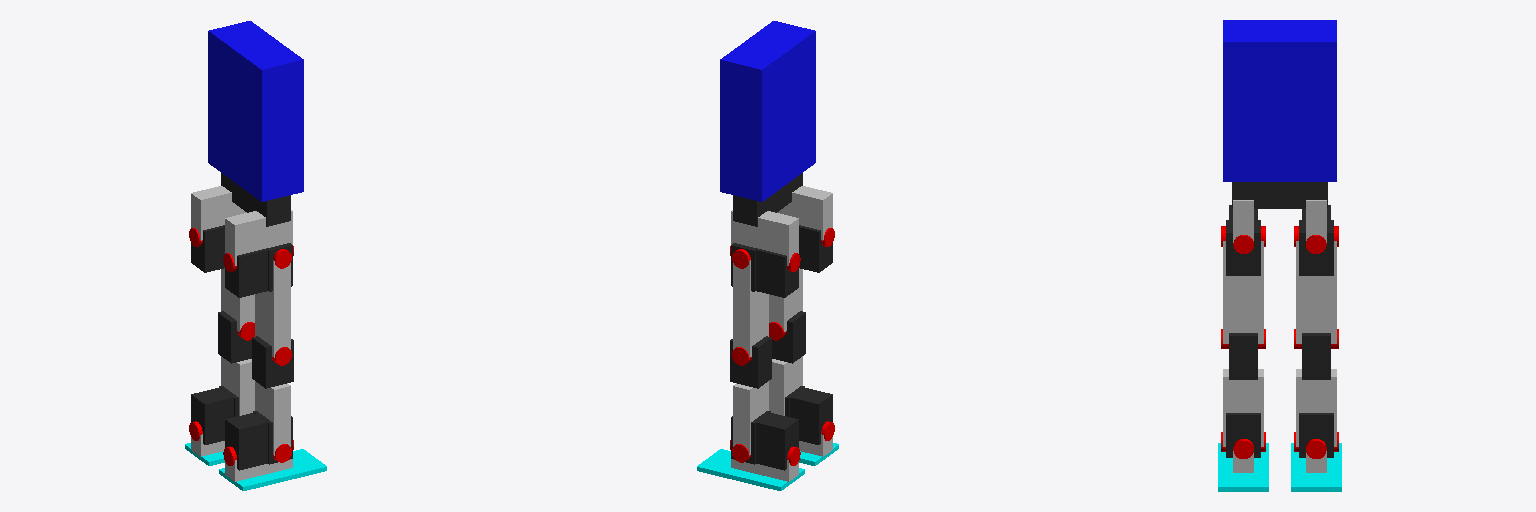
--- What the picture shows (computed from the rendered views, not written in the file) ---
The picture shows the robot from 3 angles, left to right: view 1: azimuth 30°, elevation 25°; view 2: azimuth 150°, elevation 25°; view 3: azimuth 270°, elevation 25°; orthographic projection.
Model humanoid with 34 links and 33 joints (12 revolute, 21 fixed), rooted at body, posed all joints at 0.
Links seen in each view (by area): view 1: body, legUpR, hipBridgeR, ankleMotorRB, ankleMotorLB, hipBridgeL, legDownR, hipMotorRB, kneeMotorR, footR, waist, legDownL (+4 smaller); view 2: body, legUpL, hipBridgeL, ankleMotorLB, ankleMotorRB, hipBridgeR, legDownL, hipMotorLB, kneeMotorL, footL, waist, legDownR (+4 smaller); view 3: body, legUpR, legUpL, waist, legDownR, legDownL, footR, footL, kneeMotorR, kneeMotorL, hipMotorRF, hipMotorLF (+4 smaller).
Link boxes in pixels (x1,y1,x2,y2): body: (208,21,303,201); legUpR: (255,260,290,357); hipBridgeR: (225,210,292,265); ankleMotorRB: (225,413,267,470); ankleMotorLB: (191,387,233,444); hipBridgeL: (191,186,246,240); legDownR: (255,381,290,455); hipMotorRB: (225,249,267,297); kneeMotorR: (252,336,293,388); footR: (219,449,326,490); waist: (221,173,290,226); legDownL: (221,356,254,415); body: (720,21,815,201); legUpL: (733,260,768,357); hipBridgeL: (731,210,798,265); ankleMotorLB: (756,413,798,470); ankleMotorRB: (790,387,832,444); hipBridgeR: (777,186,832,240); legDownL: (733,381,768,455); hipMotorLB: (756,249,798,297); kneeMotorL: (730,336,771,388); footL: (697,449,804,490); waist: (733,173,802,226); legDownR: (769,356,802,415); body: (1223,20,1336,181); legUpR: (1223,241,1263,343); legUpL: (1296,241,1336,343); waist: (1232,182,1327,208); legDownR: (1223,369,1263,446); legDownL: (1296,369,1336,446); footR: (1218,443,1268,491); footL: (1291,443,1341,491); kneeMotorR: (1229,333,1257,379); kneeMotorL: (1302,333,1330,379); hipMotorRF: (1226,220,1260,275); hipMotorLF: (1299,220,1333,275).
Size in the robot's own frame: 0.1033 by 0.1205 by 0.47 metres.
Geometry: primitives only (box / cylinder / sphere), no mesh files.

The robot description file, URDF, robot "humanoid":
<?xml version="1.0" ?>
<robot name="humanoid">
    <link name="body">
        <visual>
			<geometry>
				<box size="0.050 0.11 0.150"/>
			</geometry>
		    <origin xyz="0 0 0.395" rpy="0 0 0"/>
            <axis xyz="0 0 0" />
			<material name="blue">
	       		<color rgba="0.1 0.1 1 1.0"/>
	     	</material>
		</visual>
        <inertial>
            <mass value="0.8"/>
            <inertia ixx="0.0023066666666666665" ixy="0.0" ixz="0.0" iyy="0.001666666666666667" iyz="0.0" izz="0.0009733333333333334"/>
        </inertial>
        <collision>
			<geometry>
				<box size="0.050 0.11 0.150"/>
			</geometry>
		    <origin xyz="0 0 0.395" rpy="0 0 0"/>
        </collision>
    </link>


    <joint name="fixed_waist" type="fixed">
        <parent link="body"/>
        <child link="waist"/>
    </joint>

    <link name="waist">
        <visual>
			<geometry>
				<box size="0.0285 0.093 0.034"/>
			</geometry>
		    <origin xyz="0 0 0.303" rpy="0 0 0"/>
            <axis xyz="0 0 0" />
			<material name="motorColor">
	       		<color rgba="0.2 0.2 0.2 1.0"/>
	     	</material>
		</visual>
        <inertial>
            <mass value="0.116"/>
            <inertia ixx="9.478166666666668e-05" ixy="0.0" ixz="0.0" iyy="1.902641666666667e-05" iyz="0.0" izz="9.145875000000002e-05"/>
        </inertial>
        <collision>
			<geometry>
				<box size="0.0285 0.093 0.034"/>
			</geometry>
		    <origin xyz="0 0 0.303" rpy="0 0 0"/>
        </collision>
    </link>

    <!-- Right leg -->
    
    <joint name="jointHipRZ" type="revolute">
        <parent link="waist"/>
        <child link="hipCylinderRZ"/>
        <origin xyz="0 -0.03525 0.25" rpy="0 0 0"/>
        <axis xyz="0 0 1"/>
    	<limit effort="10" lower="-3" upper="+3" velocity="10"/>
        <dynamics damping="0"/>
    </joint>

    <link name="hipCylinderRZ">
        <visual>
			<geometry>
				<cylinder length="0.04" radius="0.01"/>
			</geometry>
		    <origin xyz="0 0 0.02" rpy="0 0 0"/>
            <axis xyz="0 0 0" />
			<material name="red">
	       		<color rgba="1 0.0 0.0 1.0"/>
	     	</material>
		</visual>
        <inertial>
            <mass value="0"/>
            <inertia ixx="0" ixy="0" ixz="0.0" iyy="0" iyz="0.0" izz="0"/>
        </inertial>
    </link>

    <joint name="jointHipRX" type="revolute">
        <parent link="hipCylinderRZ"/>
        <child link="hipCylinderRX"/>
        <origin xyz="0 0 0" rpy="0 0 0"/>
        <axis xyz="1 0 0"/>
    	<limit effort="10" lower="-3" upper="+3" velocity="10"/>
        <dynamics damping="0"/>
    </joint>

    <link name="hipCylinderRX">
        <visual>
			<geometry>
				<cylinder length="0.0725" radius="0.01"/>
			</geometry>
		    <origin xyz="-0.017 0 0" rpy="0 1.57075 0"/>
            <axis xyz="0 0 0" />
			<material name="red"/>
		</visual>
        <inertial>
            <mass value="0"/>
            <inertia ixx="0" ixy="0" ixz="0.0" iyy="0" iyz="0.0" izz="0"/>
        </inertial>
    </link>

    <joint name="jointHipRY" type="revolute">
        <parent link="hipCylinderRX"/>
        <child link="hipCylinderRY"/>
        <origin xyz="0 0 0" rpy="0 0 0"/>
        <axis xyz="0 1 0"/>
    	<limit effort="10" lower="-3" upper="+3" velocity="10"/>
        <dynamics damping="0"/>
    </joint>

    <link name="hipCylinderRY">
        <visual>
			<geometry>
				<cylinder length="0.044" radius="0.01"/>
			</geometry>
		    <origin xyz="0 0 0" rpy="1.57075 0 0"/>
            <axis xyz="0 0 0" />
			<material name="red"/>
		</visual>
        <inertial>
            <mass value="0"/>
            <inertia ixx="0" ixy="0" ixz="0.0" iyy="0" iyz="0.0" izz="0"/>
        </inertial>
    </link>

    <joint name="jointKneeRY" type="revolute">
        <parent link="hipCylinderRY"/>
        <child link="kneeCylinderRY"/>
        <origin xyz="0 0 -0.11" rpy="0 0 0"/>
        <axis xyz="0 1 0"/>
    	<limit effort="10" lower="-3" upper="+3" velocity="10"/>
        <dynamics damping="0"/>
    </joint>

    <link name="kneeCylinderRY">
        <visual>
			<geometry>
				<cylinder length="0.044" radius="0.01"/>
			</geometry>
		    <origin xyz="0 0 0" rpy="1.57075 0 0"/>
            <axis xyz="0 0 0" />
			<material name="red"/>
		</visual>
        <inertial>
            <mass value="0"/>
            <inertia ixx="0" ixy="0" ixz="0.0" iyy="0" iyz="0.0" izz="0"/>
        </inertial>
    </link>

    <joint name="jointankleRY" type="revolute">
        <parent link="kneeCylinderRY"/>
        <child link="ankleCylinderRY"/>
        <origin xyz="0 0 -0.11" rpy="0 0 0"/>
        <axis xyz="0 1 0"/>
    	<limit effort="10" lower="-3" upper="+3" velocity="10"/>
        <dynamics damping="0"/>
    </joint>

    <link name="ankleCylinderRY">
        <visual>
			<geometry>
				<cylinder length="0.044" radius="0.01"/>
			</geometry>
		    <origin xyz="0 0 0" rpy="1.57075 0 0"/>
            <axis xyz="0 0 0" />
			<material name="red"/>
		</visual>
        <inertial>
            <mass value="0"/>
            <inertia ixx="0" ixy="0" ixz="0.0" iyy="0" iyz="0.0" izz="0"/>
        </inertial>
    </link>

    <joint name="jointankleRX" type="revolute">
        <parent link="ankleCylinderRY"/>
        <child link="ankleCylinderRX"/>
        <origin xyz="0 0 0" rpy="0 0 0"/>
        <axis xyz="1 0 0"/>
    	<limit effort="10" lower="-3" upper="+3" velocity="10"/>
        <dynamics damping="0"/>
    </joint>

    <link name="ankleCylinderRX">
        <visual>
			<geometry>
				<cylinder length="0.0725" radius="0.01"/>
			</geometry>
		    <origin xyz="-0.017 0 0" rpy="0 1.57075 0"/>
            <axis xyz="0 0 0" />
			<material name="red"/>
		</visual>
        <inertial>
            <mass value="0"/>
            <inertia ixx="0" ixy="0" ixz="0.0" iyy="0" iyz="0.0" izz="0"/>
        </inertial>
    </link>
     	
    <!-- Left leg -->
    
    <joint name="jointHipLZ" type="revolute">
        <parent link="waist"/>
        <child link="hipCylinderLZ"/>
        <origin xyz="0 0.03525 0.25" rpy="0 0 0"/>
        <axis xyz="0 0 1"/>
    	<limit effort="10" lower="-3" upper="+3" velocity="10"/>
        <dynamics damping="0"/>
    </joint>

    <link name="hipCylinderLZ">
        <visual>
			<geometry>
				<cylinder length="0.04" radius="0.01"/>
			</geometry>
		    <origin xyz="0 0 0.02" rpy="0 0 0"/>
            <axis xyz="0 0 0" />
			<material name="red">
	       		<color rgba="1 0.0 0.0 1.0"/>
	     	</material>
		</visual>
        <inertial>
            <mass value="0"/>
            <inertia ixx="0" ixy="0" ixz="0.0" iyy="0" iyz="0.0" izz="0"/>
        </inertial>
    </link>

    <joint name="jointHipLX" type="revolute">
        <parent link="hipCylinderLZ"/>
        <child link="hipCylinderLX"/>
        <origin xyz="0 0 0" rpy="0 0 0"/>
        <axis xyz="1 0 0"/>
    	<limit effort="10" lower="-3" upper="+3" velocity="10"/>
        <dynamics damping="0"/>
    </joint>

    <link name="hipCylinderLX">
        <visual>
			<geometry>
				<cylinder length="0.0725" radius="0.01"/>
			</geometry>
		    <origin xyz="-0.017 0 0" rpy="0 1.57075 0"/>
            <axis xyz="0 0 0" />
			<material name="red"/>
		</visual>
        <inertial>
            <mass value="0"/>
            <inertia ixx="0" ixy="0" ixz="0.0" iyy="0" iyz="0.0" izz="0"/>
        </inertial>
    </link>

    <joint name="jointHipLY" type="revolute">
        <parent link="hipCylinderLX"/>
        <child link="hipCylinderLY"/>
        <origin xyz="0 0 0" rpy="0 0 0"/>
        <axis xyz="0 1 0"/>
    	<limit effort="10" lower="-3" upper="+3" velocity="10"/>
        <dynamics damping="0"/>
    </joint>

    <link name="hipCylinderLY">
        <visual>
			<geometry>
				<cylinder length="0.044" radius="0.01"/>
			</geometry>
		    <origin xyz="0 0 0" rpy="1.57075 0 0"/>
            <axis xyz="0 0 0" />
			<material name="red"/>
		</visual>
        <inertial>
            <mass value="0"/>
            <inertia ixx="0" ixy="0" ixz="0.0" iyy="0" iyz="0.0" izz="0"/>
        </inertial>
    </link>

    <joint name="jointKneeLY" type="revolute">
        <parent link="hipCylinderLY"/>
        <child link="kneeCylinderLY"/>
        <origin xyz="0 0 -0.11" rpy="0 0 0"/>
        <axis xyz="0 1 0"/>
    	<limit effort="10" lower="-3" upper="+3" velocity="10"/>
        <dynamics damping="0"/>
    </joint>

    <link name="kneeCylinderLY">
        <visual>
			<geometry>
				<cylinder length="0.044" radius="0.01"/>
			</geometry>
		    <origin xyz="0 0 0" rpy="1.57075 0 0"/>
            <axis xyz="0 0 0" />
			<material name="red"/>
		</visual>
        <inertial>
            <mass value="0"/>
            <inertia ixx="0" ixy="0" ixz="0.0" iyy="0" iyz="0.0" izz="0"/>
        </inertial>
    </link>

    <joint name="jointankleLY" type="revolute">
        <parent link="kneeCylinderLY"/>
        <child link="ankleCylinderLY"/>
        <origin xyz="0 0 -0.11" rpy="0 0 0"/>
        <axis xyz="0 1 0"/>
    	<limit effort="10" lower="-3" upper="+3" velocity="10"/>
        <dynamics damping="0"/>
    </joint>

    <link name="ankleCylinderLY">
        <visual>
			<geometry>
				<cylinder length="0.044" radius="0.01"/>
			</geometry>
		    <origin xyz="0 0 0" rpy="1.57075 0 0"/>
            <axis xyz="0 0 0" />
			<material name="red"/>
		</visual>
        <inertial>
            <mass value="0"/>
            <inertia ixx="0" ixy="0" ixz="0.0" iyy="0" iyz="0.0" izz="0"/>
        </inertial>
    </link>

    <joint name="jointankleLX" type="revolute">
        <parent link="ankleCylinderLY"/>
        <child link="ankleCylinderLX"/>
        <origin xyz="0 0 0" rpy="0 0 0"/>
        <axis xyz="1 0 0"/>
    	<limit effort="10" lower="-3" upper="+3" velocity="10"/>
        <dynamics damping="0"/>
    </joint>

    <link name="ankleCylinderLX">
        <visual>
			<geometry>
				<cylinder length="0.0725" radius="0.01"/>
			</geometry>
		    <origin xyz="-0.017 0 0" rpy="0 1.57075 0"/>
            <axis xyz="0 0 0" />
			<material name="red"/>
		</visual>
        <inertial>
            <mass value="0"/>
            <inertia ixx="0" ixy="0" ixz="0.0" iyy="0" iyz="0.0" izz="0"/>
        </inertial>
    </link>




    <!-- Decorations R -->
    
    
    <joint name="fixed_hipBridgeR" type="fixed">
        <parent link="hipCylinderRZ"/>
        <child link="hipBridgeR"/>
    </joint>
    
    <link name="hipBridgeR">
      <visual>
			<geometry>
				<box size="0.0685 0.02 0.046"/>
			</geometry>
		    <origin xyz="-0.017 0 0.023" rpy="0 0 0"/>
			<material name="linkColor">
	       		<color rgba="0.8 0.8 0.8 1.0"/>
	     	</material>
		</visual>
        <inertial>
            <mass value="0.03"/>
            <inertia ixx="6.29e-06" ixy="0.0" ixz="0.0" iyy="1.7020625000000003e-05" iyz="0.0" izz="1.2730625000000003e-05"/>
        </inertial>
        <collision>
			<geometry>
				<box size="0.0685 0.02 0.046"/>
			</geometry>
		    <origin xyz="-0.017 0 0.023" rpy="0 0 0"/>
        </collision>
    </link>
    
    <joint name="fixed_hipMotorRF" type="fixed">
        <parent link="hipCylinderRX"/>
        <child link="hipMotorRF"/>
    </joint>
    
    <link name="hipMotorRF">
        <visual>
			<geometry>
				<box size="0.0285 0.034 0.0465"/>
			</geometry>
		    <origin xyz="0 0 -0.01225" rpy="0 0 0"/>
            <axis xyz="0 0 0" />
			<material name="motorColor">
	       		<color rgba="0.2 0.2 0.2 1.0"/>
	     	</material>
		</visual>
        <inertial>
            <mass value="0.058"/>
            <inertia ixx="1.6038208333333333e-05" ixy="0.0" ixz="0.0" iyy="1.4376750000000003e-05" iyz="0.0" izz="9.513208333333336e-06"/>
        </inertial>
        <collision>
			<geometry>
				<box size="0.0285 0.034 0.0465"/>
			</geometry>
		    <origin xyz="0 0 -0.01225" rpy="0 0 0"/>
        </collision>
    </link>
    
    <joint name="fixed_hipMotorRB" type="fixed">
        <parent link="hipCylinderRX"/>
        <child link="hipMotorRB"/>
    </joint>

    <link name="hipMotorRB">
        <visual>
			<geometry>
				<box size="0.034 0.0285 0.0465"/>
			</geometry>
		    <origin xyz="-0.0315 0 -0.01225" rpy="0 0 0"/>
            <axis xyz="0 0 0" />
			<material name="motorColor"/>
		</visual>
        <inertial>
            <mass value="0.058"/>
            <inertia ixx="1.4376750000000003e-05" ixy="0.0" ixz="0.0" iyy="1.6038208333333333e-05" iyz="0.0" izz="9.513208333333336e-06"/>
        </inertial>
        <collision>
			<geometry>
				<box size="0.034 0.0285 0.0465"/>
			</geometry>
		    <origin xyz="-0.0315 0 -0.01225" rpy="0 0 0"/>
        </collision>
    </link>
    
    <joint name="fixed_legUpR" type="fixed">
        <parent link="hipCylinderRY"/>
        <child link="legUpR"/>
    </joint>
 
    <link name="legUpR">
        <visual>
            <geometry>
                <box size="0.02 0.04 0.11"/>
            </geometry>
            <origin xyz="0 0 -0.055"/>
            <axis xyz="0 0 0" />
            <material name="linkColor"/>
        </visual>
        <inertial>
            <mass value="0.03"/>
            <inertia ixx="3.425e-05" ixy="0.0" ixz="0.0" iyy="3.1249999999999994e-05" iyz="0.0" izz="5e-06"/>
        </inertial>
        <collision>
            <geometry>
                <box size="0.02 0.04 0.11"/>
            </geometry>
            <origin xyz="0 0 -0.055"/>
        </collision>
    </link>
    
    <joint name="fixed_kneeMotorR" type="fixed">
        <parent link="kneeCylinderRY"/>
        <child link="kneeMotorR"/>
    </joint>
    
    <link name="kneeMotorR">
        <visual>
			<geometry>
				<box size="0.034 0.0285 0.0465"/>
			</geometry>
		    <origin xyz="0 0 -0.01225" rpy="0 0 0"/>
            <axis xyz="0 0 0" />
            <material name="motorColor"/>
		</visual>
        <inertial>
            <mass value="0.058"/>
            <inertia ixx="1.4376750000000003e-05" ixy="0.0" ixz="0.0" iyy="1.6038208333333333e-05" iyz="0.0" izz="1.6038208333333333e-05"/>
        </inertial>
        <collision>
			<geometry>
				<box size="0.034 0.0285 0.0465"/>
			</geometry>
		    <origin xyz="0 0 -0.01225" rpy="0 0 0"/>
        </collision>
    </link>

    <joint name="fixed_legDownR" type="fixed">
        <parent link="kneeCylinderRY"/>
        <child link="legDownR"/>
    </joint>
    
    <link name="legDownR">
        <visual>
            <geometry>
                <box size="0.02 0.04 0.07475"/>
            </geometry>
            <origin xyz="0 0 -0.073625"/>
            <axis xyz="0 0 0" />
            <material name="linkColor"/>
        </visual>
        <inertial>
            <mass value="0.03"/>
            <inertia ixx="1.796890625e-05" ixy="0.0" ixz="0.0" iyy="1.4968906249999999e-05" iyz="0.0" izz="5e-06"/>
        </inertial>
        <collision>
            <geometry>
                <box size="0.02 0.04 0.07475"/>
            </geometry>
            <origin xyz="0 0 -0.073625"/>
        </collision>
    </link>

    <joint name="fixed_ankleMotorRF" type="fixed">
        <parent link="ankleCylinderRY"/>
        <child link="ankleMotorRF"/>
    </joint>

    <link name="ankleMotorRF">
        <visual>
			<geometry>
				<box size="0.0285 0.034 0.0465"/>
			</geometry>
		    <origin xyz="0 0 0.01225" rpy="0 0 0"/>
            <axis xyz="0 0 0" />
            <material name="motorColor"/>
		</visual>
        <inertial>
            <mass value="0.058"/>
            <inertia ixx="1.6038208333333333e-05" ixy="0.0" ixz="0.0" iyy="1.4376750000000003e-05" iyz="0.0" izz="9.513208333333336e-06"/>
        </inertial>
        <collision>
			<geometry>
				<box size="0.0285 0.034 0.0465"/>
			</geometry>
		    <origin xyz="0 0 0.01225" rpy="0 0 0"/>
        </collision>
    </link>

    <joint name="fixed_ankleMotorRB" type="fixed">
        <parent link="ankleCylinderRY"/>
        <child link="ankleMotorRB"/>
    </joint>
    
    <link name="ankleMotorRB">
        <visual>
			<geometry>
				<box size="0.034 0.0285 0.0465"/>
			</geometry>
		    <origin xyz="-0.0315 0 0.01225" rpy="0 0 0"/>
            <axis xyz="0 0 0" />
            <material name="motorColor"/>
		</visual>
        <inertial>
            <mass value="0.058"/>
            <inertia ixx="1.4376750000000003e-05" ixy="0.0" ixz="0.0" iyy="1.6038208333333333e-05" iyz="0.0" izz="9.513208333333336e-06"/>
        </inertial>
        <collision>
			<geometry>
				<box size="0.034 0.0285 0.0465"/>
			</geometry>
		    <origin xyz="-0.0315 0 0.01225" rpy="0 0 0"/>
        </collision>
    </link>

    <joint name="fixed_footBridgeR" type="fixed">
        <parent link="ankleCylinderRX"/>
        <child link="footBridgeR"/>
    </joint>

    <link name = "footBridgeR">
        <visual>
			<geometry>
				<box size="0.0685 0.02 0.025"/>
			</geometry>
		    <origin xyz="-0.017 0 -0.0125" rpy="0 0 0"/>
            <axis xyz="0 0 0" />
            <material name="linkColor"/>
		</visual>
        <inertial>
            <mass value="0.009"/>
            <inertia ixx="8.541666666666668e-07" ixy="0.0" ixz="0.0" iyy="4.431041666666667e-06" iyz="0.0" izz="4.243541666666668e-06"/>
        </inertial>
        <collision>
			<geometry>
				<box size="0.0685 0.02 0.025"/>
			</geometry>
		    <origin xyz="-0.017 0 -0.0125" rpy="0 0 0"/>
        </collision>
    </link>

    <joint name="fixed_footR" type="fixed">
        <parent link="ankleCylinderRX"/>
        <child link="footR"/>
    </joint>

    <link name="footR">
        <visual>
			<geometry>
				<box size="0.10 0.05 0.005"/>
			</geometry>
		    <origin xyz="0.0 -0.0 -0.0275" rpy="0 0 0"/>
            <axis xyz="0 0 0" />
            <material name="footColor">
	       		<color rgba="0 1 1 1.0"/>
            </material>
		</visual>
        <inertial>
            <mass value="0.025"/>
            <inertia ixx="1.026041666666667e-05" ixy="0.0" ixz="0.0" iyy="4.692708333333334e-05" iyz="0.0" izz="5.7083333333333336e-05"/>
        </inertial>
        <!--
        <collision>
			<geometry>
				<box size="0.15 0.04 0.02"/>
			</geometry>
		    <origin xyz="0.02 -0.015 -0.02" rpy="0 0 0"/>
        </collision>
        <collision>
			<geometry>
				<box size="0.12 0.07 0.02"/>
			</geometry>
		    <origin xyz="0.02 -0.015 -0.02" rpy="0 0 0"/>
        </collision>
        -->
        <collision>
			<geometry>
				<box size="0.10 0.05 0.02"/>
			</geometry>
		    <origin xyz="0.00 -0.00 -0.02" rpy="0 0 0"/>
        </collision>
    </link>

    <!-- Decorations L -->
    
    <joint name="fixed_hipBridgeL" type="fixed">
        <parent link="hipCylinderLZ"/>
        <child link="hipBridgeL"/>
    </joint>
    
    <link name="hipBridgeL">
      <visual>
			<geometry>
				<box size="0.0685 0.02 0.046"/>
			</geometry>
		    <origin xyz="-0.017 0 0.023" rpy="0 0 0"/>
			<material name="linkColor">
	       		<color rgba="0.8 0.8 0.8 1.0"/>
	     	</material>
		</visual>
        <inertial>
            <mass value="0.03"/>
            <inertia ixx="6.29e-06" ixy="0.0" ixz="0.0" iyy="1.7020625000000003e-05" iyz="0.0" izz="1.2730625000000003e-05"/>
        </inertial>
        <collision>
			<geometry>
				<box size="0.0685 0.02 0.046"/>
			</geometry>
		    <origin xyz="-0.017 0 0.023" rpy="0 0 0"/>
        </collision>
    </link>
    
    <joint name="fixed_hipMotorLF" type="fixed">
        <parent link="hipCylinderLX"/>
        <child link="hipMotorLF"/>
    </joint>
    
    <link name="hipMotorLF">
        <visual>
			<geometry>
				<box size="0.0285 0.034 0.0465"/>
			</geometry>
		    <origin xyz="0 0 -0.01225" rpy="0 0 0"/>
            <axis xyz="0 0 0" />
			<material name="motorColor">
	       		<color rgba="0.2 0.2 0.2 1.0"/>
	     	</material>
		</visual>
        <inertial>
            <mass value="0.058"/>
            <inertia ixx="1.6038208333333333e-05" ixy="0.0" ixz="0.0" iyy="1.4376750000000003e-05" iyz="0.0" izz="9.513208333333336e-06"/>
        </inertial>
        <collision>
			<geometry>
				<box size="0.0285 0.034 0.0465"/>
			</geometry>
		    <origin xyz="0 0 -0.01225" rpy="0 0 0"/>
        </collision>
    </link>
    
    <joint name="fixed_hipMotorLB" type="fixed">
        <parent link="hipCylinderLX"/>
        <child link="hipMotorLB"/>
    </joint>

    <link name="hipMotorLB">
        <visual>
			<geometry>
				<box size="0.034 0.0285 0.0465"/>
			</geometry>
		    <origin xyz="-0.0315 0 -0.01225" rpy="0 0 0"/>
            <axis xyz="0 0 0" />
			<material name="motorColor"/>
		</visual>
        <inertial>
            <mass value="0.058"/>
            <inertia ixx="1.4376750000000003e-05" ixy="0.0" ixz="0.0" iyy="1.6038208333333333e-05" iyz="0.0" izz="9.513208333333336e-06"/>
        </inertial>
        <collision>
			<geometry>
				<box size="0.034 0.0285 0.0465"/>
			</geometry>
		    <origin xyz="-0.0315 0 -0.01225" rpy="0 0 0"/>
        </collision>
    </link>
    
    <joint name="fixed_legUpL" type="fixed">
        <parent link="hipCylinderLY"/>
        <child link="legUpL"/>
    </joint>
 
    <link name="legUpL">
        <visual>
            <geometry>
                <box size="0.02 0.04 0.11"/>
            </geometry>
            <origin xyz="0 0 -0.055"/>
            <axis xyz="0 0 0" />
            <material name="linkColor"/>
        </visual>
        <inertial>
            <mass value="0.03"/>
            <inertia ixx="3.425e-05" ixy="0.0" ixz="0.0" iyy="3.1249999999999994e-05" iyz="0.0" izz="5e-06"/>
        </inertial>
        <collision>
            <geometry>
                <box size="0.02 0.04 0.11"/>
            </geometry>
            <origin xyz="0 0 -0.055"/>
        </collision>
    </link>
    
    <joint name="fixed_kneeMotorL" type="fixed">
        <parent link="kneeCylinderLY"/>
        <child link="kneeMotorL"/>
    </joint>
    
    <link name="kneeMotorL">
        <visual>
			<geometry>
				<box size="0.034 0.0285 0.0465"/>
			</geometry>
		    <origin xyz="0 0 -0.01225" rpy="0 0 0"/>
            <axis xyz="0 0 0" />
            <material name="motorColor"/>
		</visual>
        <inertial>
            <mass value="0.058"/>
            <inertia ixx="1.4376750000000003e-05" ixy="0.0" ixz="0.0" iyy="1.6038208333333333e-05" iyz="0.0" izz="1.6038208333333333e-05"/>
        </inertial>
        <collision>
			<geometry>
				<box size="0.034 0.0285 0.0465"/>
			</geometry>
		    <origin xyz="0 0 -0.01225" rpy="0 0 0"/>
        </collision>
    </link>

    <joint name="fixed_legDownL" type="fixed">
        <parent link="kneeCylinderLY"/>
        <child link="legDownL"/>
    </joint>
    
    <link name="legDownL">
        <visual>
            <geometry>
                <box size="0.02 0.04 0.07475"/>
            </geometry>
            <origin xyz="0 0 -0.073625"/>
            <axis xyz="0 0 0" />
            <material name="linkColor"/>
        </visual>
        <inertial>
            <mass value="0.03"/>
            <inertia ixx="1.796890625e-05" ixy="0.0" ixz="0.0" iyy="1.4968906249999999e-05" iyz="0.0" izz="5e-06"/>
        </inertial>
        <collision>
            <geometry>
                <box size="0.02 0.04 0.07475"/>
            </geometry>
            <origin xyz="0 0 -0.073625"/>
        </collision>
    </link>

    <joint name="fixed_ankleMotorLF" type="fixed">
        <parent link="ankleCylinderLY"/>
        <child link="ankleMotorLF"/>
    </joint>

    <link name="ankleMotorLF">
        <visual>
			<geometry>
				<box size="0.0285 0.034 0.0465"/>
			</geometry>
		    <origin xyz="0 0 0.01225" rpy="0 0 0"/>
            <axis xyz="0 0 0" />
            <material name="motorColor"/>
		</visual>
        <inertial>
            <mass value="0.058"/>
            <inertia ixx="1.6038208333333333e-05" ixy="0.0" ixz="0.0" iyy="1.4376750000000003e-05" iyz="0.0" izz="9.513208333333336e-06"/>
        </inertial>
        <collision>
			<geometry>
				<box size="0.0285 0.034 0.0465"/>
			</geometry>
		    <origin xyz="0 0 0.01225" rpy="0 0 0"/>
        </collision>
    </link>

    <joint name="fixed_ankleMotorLB" type="fixed">
        <parent link="ankleCylinderLY"/>
        <child link="ankleMotorLB"/>
    </joint>
    
    <link name="ankleMotorLB">
        <visual>
			<geometry>
				<box size="0.034 0.0285 0.0465"/>
			</geometry>
		    <origin xyz="-0.0315 0 0.01225" rpy="0 0 0"/>
            <axis xyz="0 0 0" />
            <material name="motorColor"/>
		</visual>
        <inertial>
            <mass value="0.058"/>
            <inertia ixx="1.4376750000000003e-05" ixy="0.0" ixz="0.0" iyy="1.6038208333333333e-05" iyz="0.0" izz="9.513208333333336e-06"/>
        </inertial>
        <collision>
			<geometry>
				<box size="0.034 0.0285 0.0465"/>
			</geometry>
		    <origin xyz="-0.0315 0 0.01225" rpy="0 0 0"/>
        </collision>
    </link>

    <joint name="fixed_footBridgeL" type="fixed">
        <parent link="ankleCylinderLX"/>
        <child link="footBridgeL"/>
    </joint>

    <link name = "footBridgeL">
        <visual>
			<geometry>
				<box size="0.0685 0.02 0.025"/>
			</geometry>
		    <origin xyz="-0.017 0 -0.0125" rpy="0 0 0"/>
            <axis xyz="0 0 0" />
            <material name="linkColor"/>
		</visual>
        <inertial>
            <mass value="0.009"/>
            <inertia ixx="8.541666666666668e-07" ixy="0.0" ixz="0.0" iyy="4.431041666666667e-06" iyz="0.0" izz="4.243541666666668e-06"/>
        </inertial>
        <collision>
			<geometry>
				<box size="0.0685 0.02 0.025"/>
			</geometry>
		    <origin xyz="-0.017 0 -0.0125" rpy="0 0 0"/>
        </collision>
    </link>

    <joint name="fixed_ankleCylinderLX" type="fixed">
        <parent link="ankleCylinderLX"/>
        <child link="footL"/>
    </joint>

    <link name="footL">
        <visual>
			<geometry>
				<box size="0.10 0.05 0.005"/>
			</geometry>
		    <origin xyz="0.0 0.0 -0.0275" rpy="0 0 0"/>
            <axis xyz="0 0 0" />
            <material name="footColor">
	       		<color rgba="0 1 1 1.0"/>
            </material>
		</visual>
        <inertial>
            <mass value="0.025"/>
            <inertia ixx="1.026041666666667e-05" ixy="0.0" ixz="0.0" iyy="4.692708333333334e-05" iyz="0.0" izz="5.7083333333333336e-05"/>
        </inertial>
        <!--
        <collision>
			<geometry>
				<box size="0.15 0.04 0.02"/>
			</geometry>
		    <origin xyz="0.02 0.015 -0.02" rpy="0 0 0"/>
        </collision>
        <collision>
			<geometry>
				<box size="0.12 0.07 0.02"/>
			</geometry>
		    <origin xyz="0.02 0.015 -0.02" rpy="0 0 0"/>
        </collision>
        -->
        <collision>
			<geometry>
				<box size="0.10 0.05 0.02"/>
			</geometry>
		    <origin xyz="0.00 0.000 -0.02" rpy="0 0 0"/>
        </collision>
    </link>
</robot>
